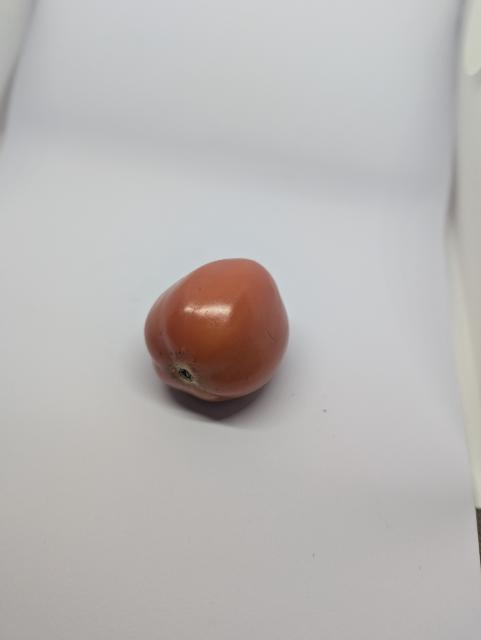red: (130, 246, 332, 426)
